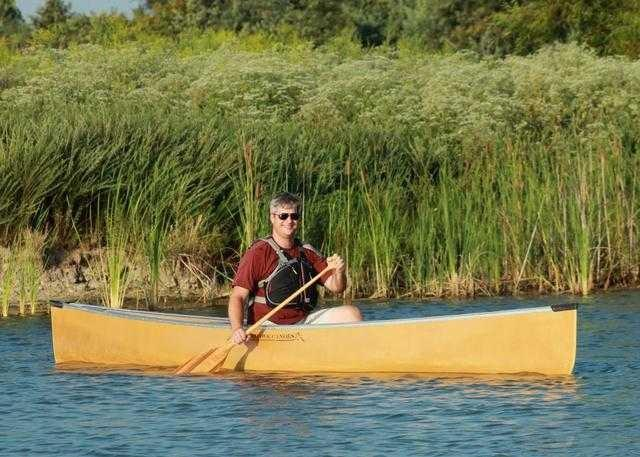kayak: (50, 298, 587, 375)
